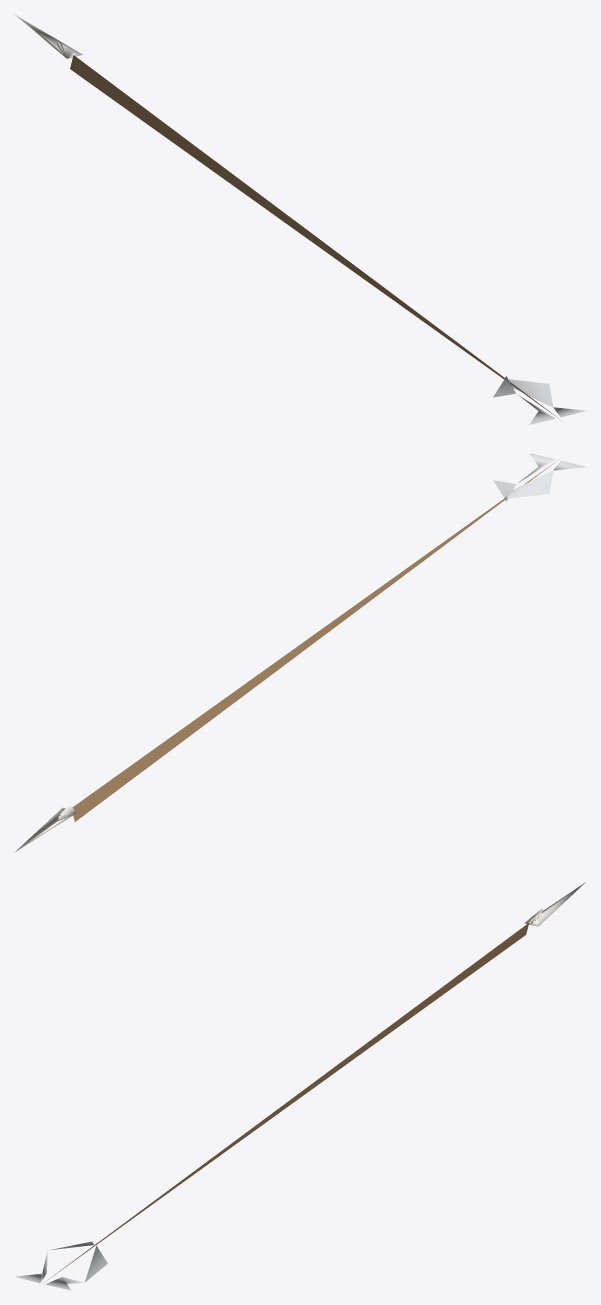
Rendered from weapon_arrow.glb.
The picture shows the model from 3 angles, top to bottom: view 1: azimuth 30°, elevation 25°; view 2: azimuth 150°, elevation 25°; view 3: azimuth 330°, elevation 25°; orthographic projection.
Visible parts, largest first — view 1: BezierCircle; view 2: BezierCircle; view 3: BezierCircle.
Boxes of the visible parts, x1,y1,x2,y2 form: BezierCircle: (15,15,586,424); BezierCircle: (14,453,585,852); BezierCircle: (15,882,585,1290).
Bounding box in the file's own units: 0.0472 × 0.0182 × 0.78.
